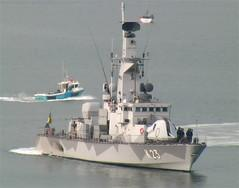otherboat: (36, 76, 83, 104)
warship: (38, 4, 211, 173)
